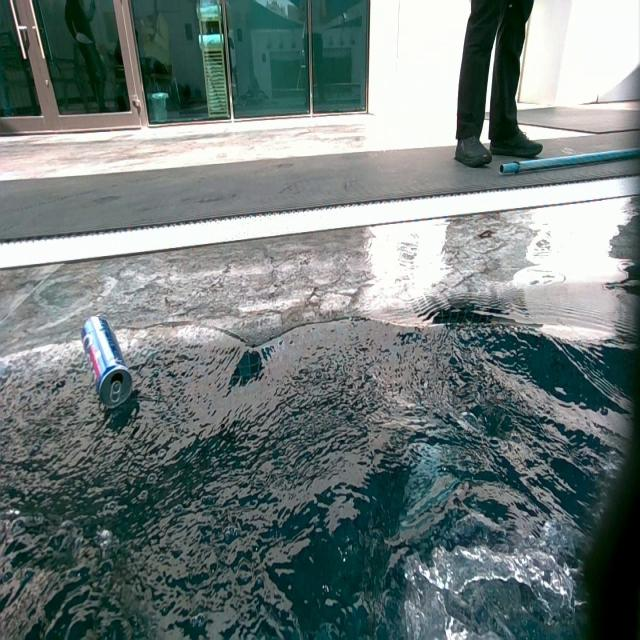Cans: (80, 314, 133, 414)
